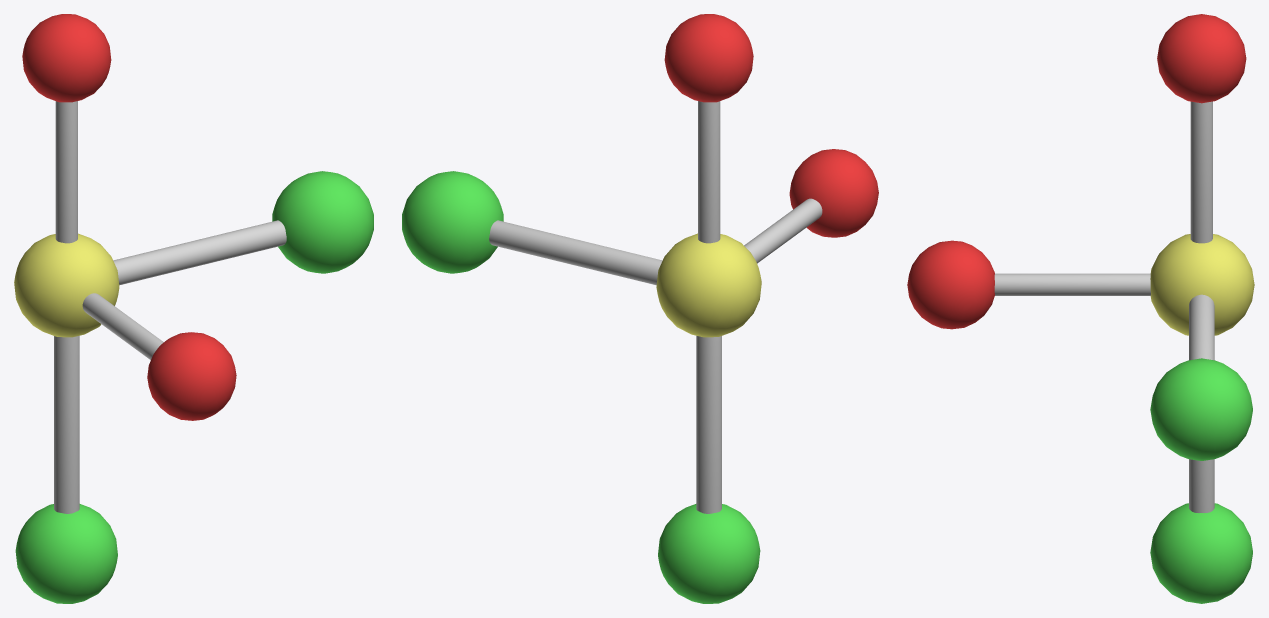
The picture shows the model from 3 angles, left to right: view 1: azimuth 30°, elevation 25°; view 2: azimuth 150°, elevation 25°; view 3: azimuth 270°, elevation 25°; orthographic projection.
Parts seen in each view (by area): view 1: Atom_6_CL, Atom_2_CL, Atom_0_S, Atom_1_O, Atom_3_O, Bond_003, Bond_001, Bond, Bond_002; view 2: Atom_0_S, Atom_6_CL, Atom_2_CL, Atom_1_O, Atom_3_O, Bond_003, Bond_001, Bond, Bond_002; view 3: Atom_2_CL, Atom_6_CL, Atom_0_S, Atom_1_O, Atom_3_O, Bond_002, Bond, Bond_001, Bond_003.
Part boxes in pixels (x1=…): Atom_6_CL: x1=15, y1=504, x2=117, y2=603; Atom_2_CL: x1=272, y1=171, x2=373, y2=273; Atom_0_S: x1=14, y1=233, x2=119, y2=337; Atom_1_O: x1=22, y1=14, x2=111, y2=102; Atom_3_O: x1=147, y1=332, x2=236, y2=420; Bond_003: x1=54, y1=336, x2=79, y2=513; Bond_001: x1=113, y1=220, x2=286, y2=285; Bond: x1=55, y1=101, x2=77, y2=243; Bond_002: x1=82, y1=293, x2=163, y2=359; Atom_0_S: x1=656, y1=233, x2=761, y2=337; Atom_6_CL: x1=658, y1=504, x2=760, y2=603; Atom_2_CL: x1=402, y1=171, x2=503, y2=273; Atom_1_O: x1=664, y1=14, x2=753, y2=102; Atom_3_O: x1=789, y1=149, x2=878, y2=237; Bond_003: x1=696, y1=336, x2=721, y2=513; Bond_001: x1=489, y1=220, x2=662, y2=285; Bond: x1=698, y1=101, x2=720, y2=243; Bond_002: x1=744, y1=198, x2=822, y2=263; Atom_2_CL: x1=1150, y1=358, x2=1252, y2=460; Atom_6_CL: x1=1150, y1=503, x2=1252, y2=603; Atom_0_S: x1=1150, y1=234, x2=1254, y2=335; Atom_1_O: x1=1157, y1=14, x2=1246, y2=103; Atom_3_O: x1=907, y1=240, x2=994, y2=329; Bond_002: x1=994, y1=273, x2=1150, y2=295; Bond: x1=1190, y1=101, x2=1212, y2=243; Bond_001: x1=1189, y1=294, x2=1214, y2=360; Bond_003: x1=1189, y1=459, x2=1214, y2=513.
Size of the model in its own units: 2.72 by 4.36 by 2.36.
